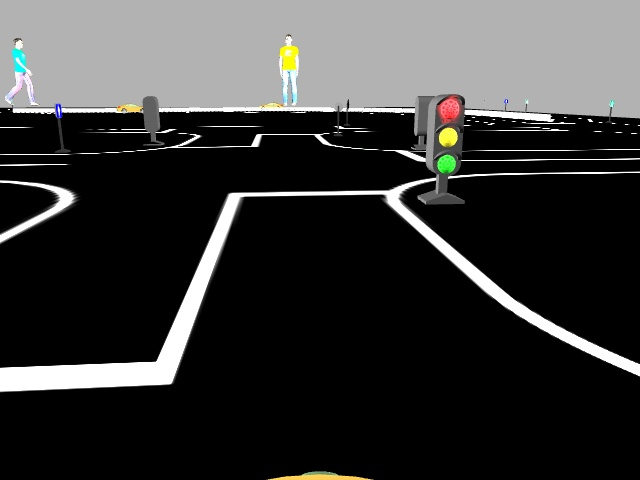TrafficLight: (425, 93, 466, 175)
